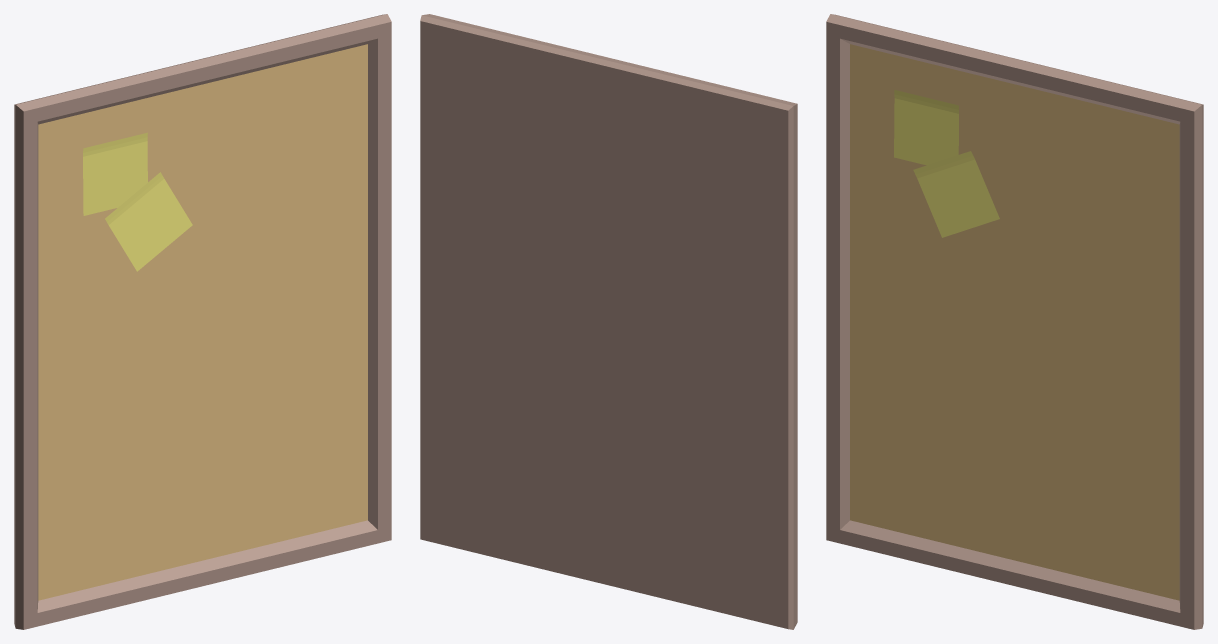
File: note.glb
3 renders of one model, left to right at view 1: azimuth 30°, elevation 25°; view 2: azimuth 150°, elevation 25°; view 3: azimuth 330°, elevation 25°, orthographic.
Visible parts, largest first — view 1: Bulletin_board_01_Cube.031, Bulletin_board_01.002_Cube.042, Bulletin_board_01.001_Cube.041; view 2: Bulletin_board_01_Cube.031; view 3: Bulletin_board_01_Cube.031, Bulletin_board_01.002_Cube.042, Bulletin_board_01.001_Cube.041.
Boxes of the visible parts, x1,y1,x2,y2 form: Bulletin_board_01_Cube.031: (14,14,391,629); Bulletin_board_01.002_Cube.042: (105,172,192,271); Bulletin_board_01.001_Cube.041: (83,132,147,215); Bulletin_board_01_Cube.031: (420,14,797,629); Bulletin_board_01_Cube.031: (826,14,1203,629); Bulletin_board_01.002_Cube.042: (913,151,999,237); Bulletin_board_01.001_Cube.041: (894,90,958,165).
Bounding box in the file's own units: 10.03 × 13.5 × 0.444.
